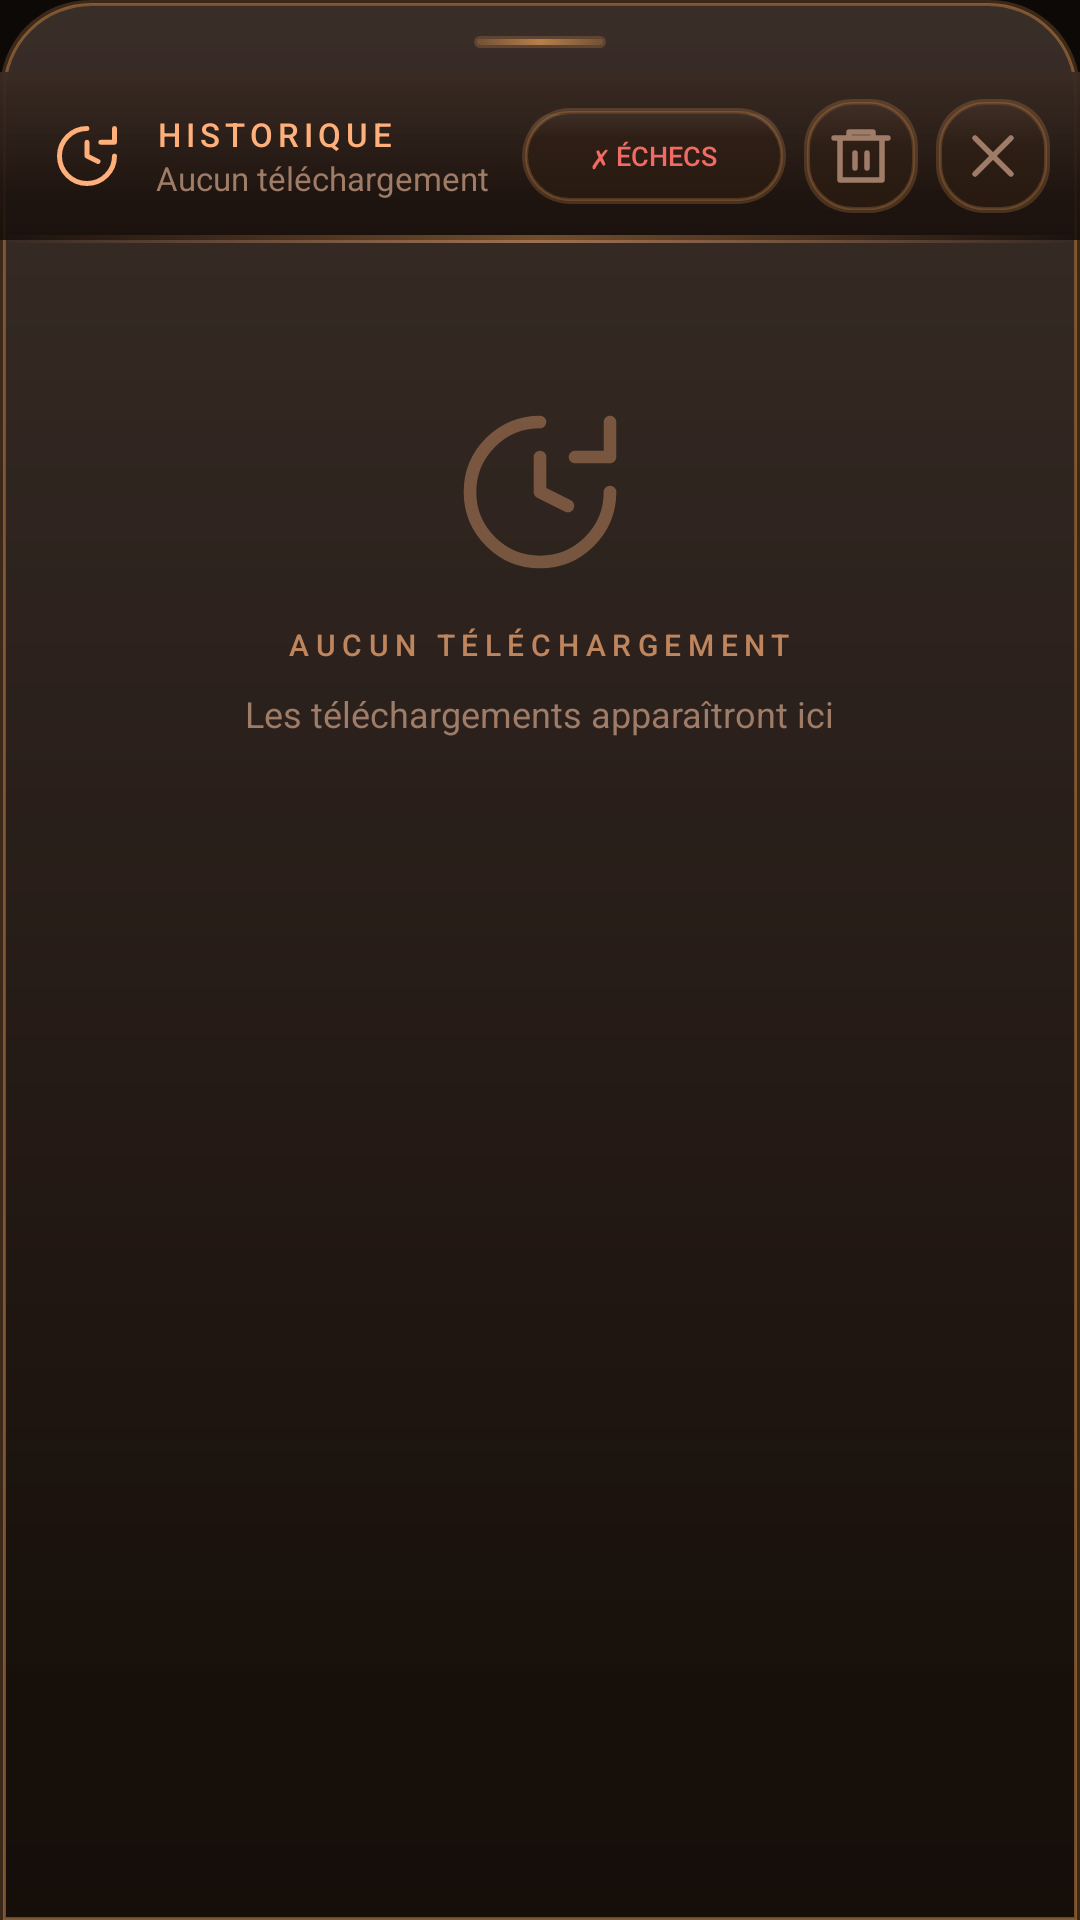

Icons on this 1080×1920 Android screen, each with the point to tap as (x,y):
Fermer: (993,156)
history: (87,156), (540,492)
Tout effacer: (861,156)
